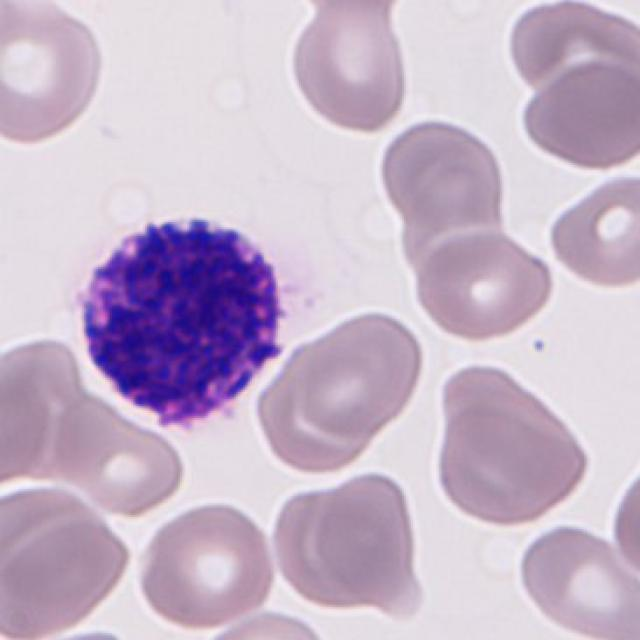Basophil: (59, 196, 310, 441)
RBC: (437, 361, 595, 501), (250, 328, 383, 480), (430, 401, 586, 529), (133, 496, 280, 631), (292, 305, 427, 439), (407, 227, 558, 345), (49, 396, 191, 518), (285, 0, 412, 135), (0, 515, 136, 638), (0, 0, 108, 147), (309, 466, 422, 604), (512, 520, 638, 640), (374, 115, 509, 227), (267, 482, 383, 612), (516, 59, 638, 173), (0, 481, 121, 593), (393, 172, 512, 284), (504, 0, 636, 99), (544, 168, 638, 293), (0, 350, 58, 486), (192, 607, 338, 640), (608, 456, 640, 588), (290, 0, 418, 19), (11, 626, 152, 640)
